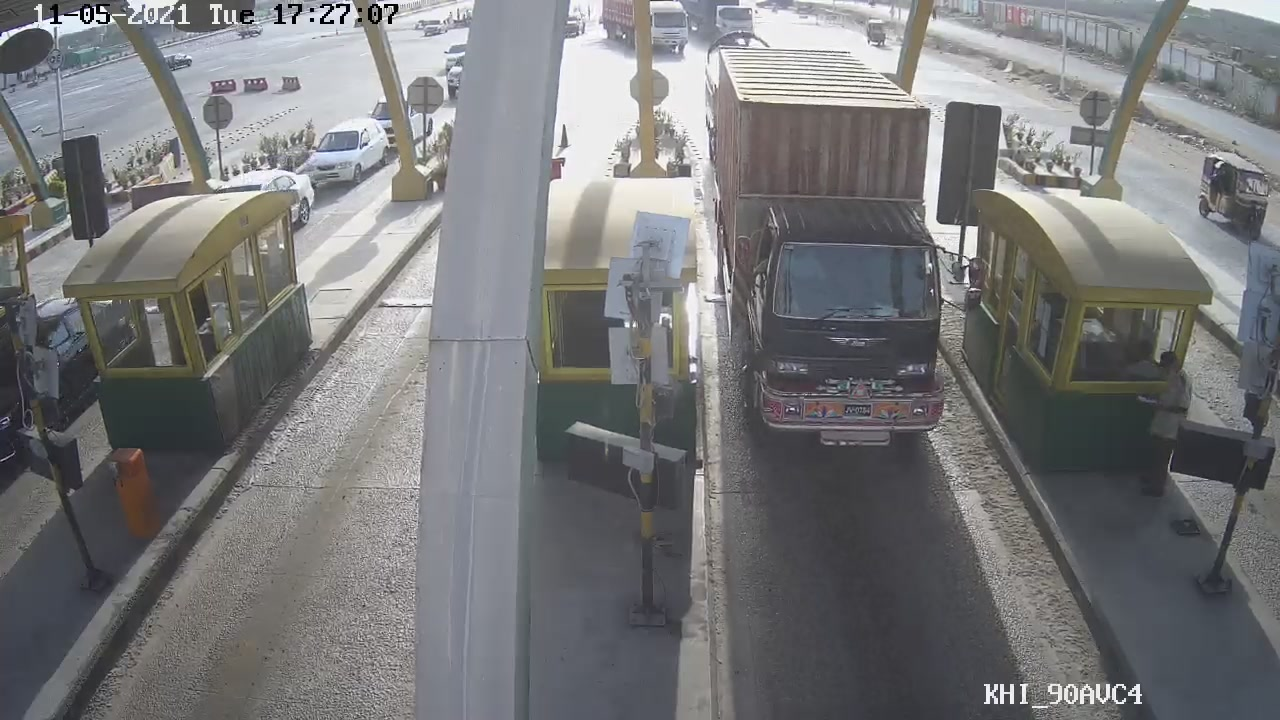F6: (708, 32, 959, 454)
